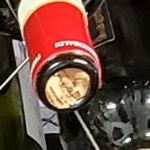bottle: (26, 42, 106, 123)
